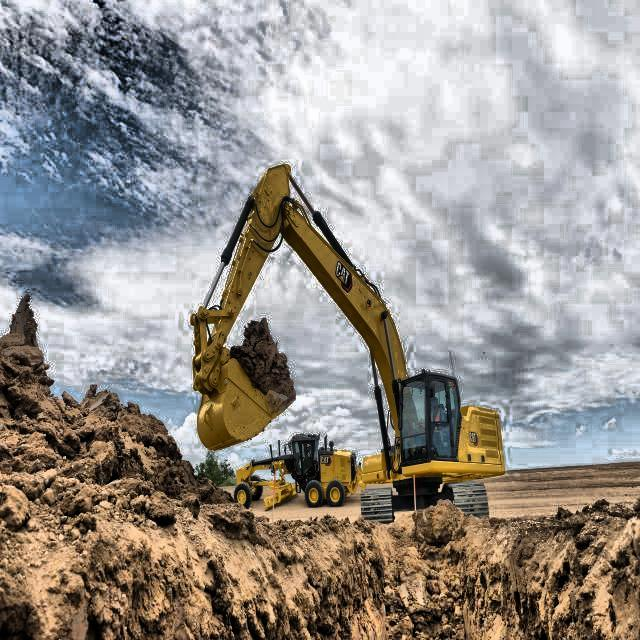excavator: (186, 162, 508, 528)
